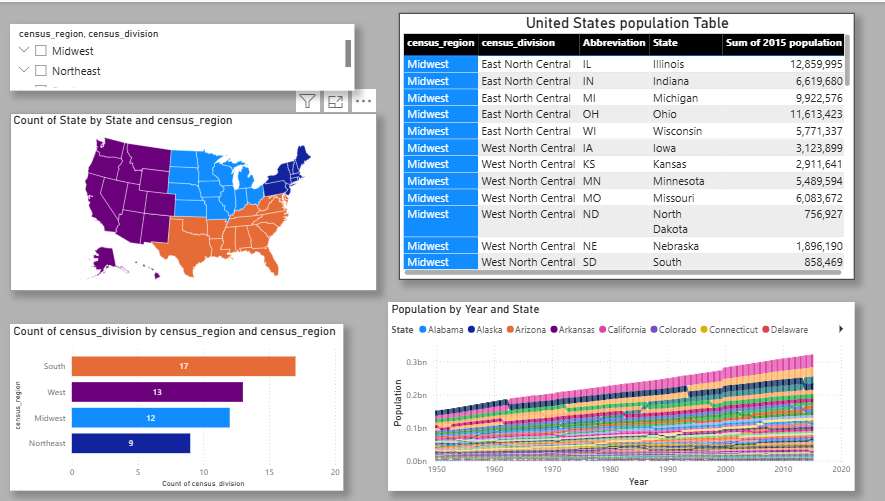

What the dashboard file says about the page in this screenshot:
{"tool":"powerbi","page":{"name":"Overview","canvas":[1280,720],"ordinal":0},"visuals":[{"type":"barChart","fields":{"Y":["CountNonNull(States.census_division)"],"Category":["States.census_region"],"Series":["States.census_region"]},"box":[16,464,480,240],"z":0},{"type":"tableEx","title":"United States population Table","fields":{"Values":["States.census_region","States.census_division","States.Aabbreviation","States.State","States.2015 population"]},"box":[576,16,656,384],"z":1000},{"type":"shapeMap","fields":{"Category":["States.State"],"Series":["States.census_region"],"Value":["CountNonNull(States.State)"]},"box":[16,160,528,256],"z":2000},{"type":"slicer","fields":{"Values":["States.census_area.census_region","States.census_area.census_division"]},"box":[16,32,496,80],"z":3000},{"type":"ribbonChart","fields":{"Category":["States_population.Year"],"Series":["States.State"],"Y":["_Measures.Population"]},"box":[560,432,672,272],"z":4000}]}

Visuals, with their boxes in screenshot pixels (x1, y1, x2, y2), scaled from the page's 1280x720 canvas onto the 885x501 screenshot:
barChart - CountNonNull(States.census_division) x States.census_region: bbox=[11, 323, 343, 490]
"United States population Table" tableEx: bbox=[398, 11, 852, 278]
shapeMap - States.State x States.census_region: bbox=[11, 111, 376, 289]
slicer - States.census_area.census_region x States.census_area.census_division: bbox=[11, 22, 354, 78]
ribbonChart - States_population.Year x States.State: bbox=[387, 301, 852, 490]
